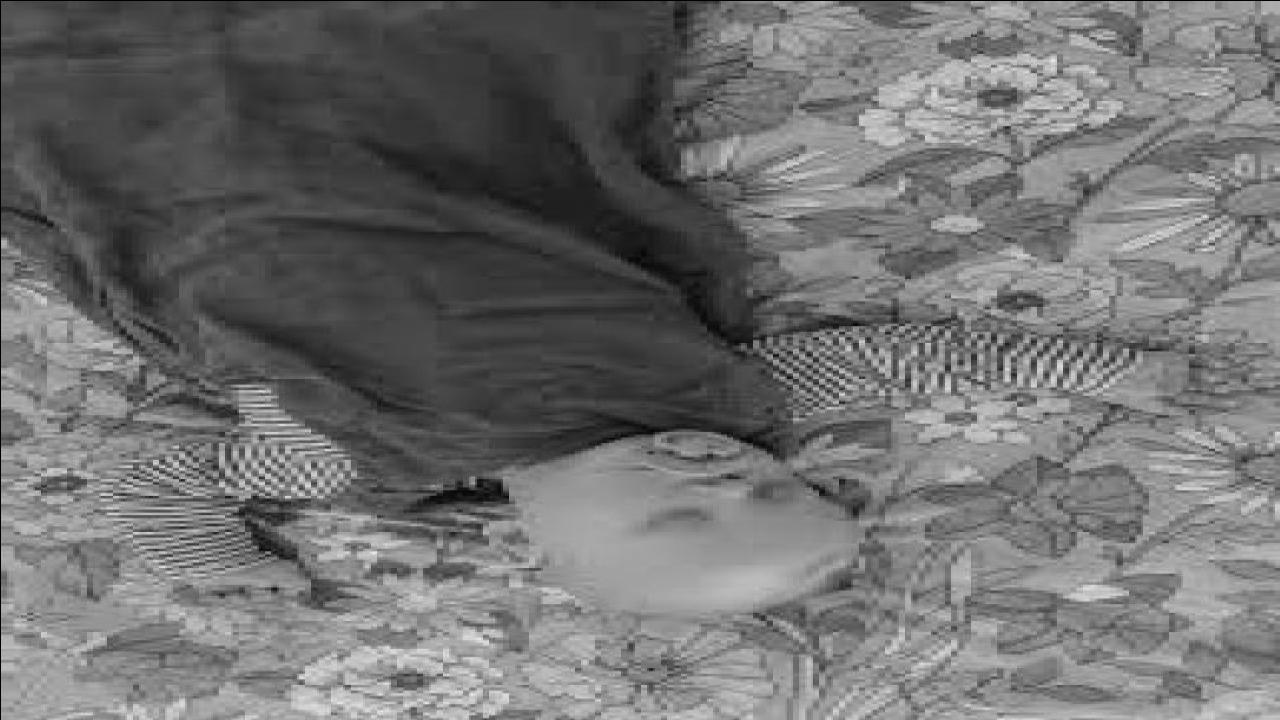hand: (1063, 338, 1247, 418), (174, 544, 314, 614)
